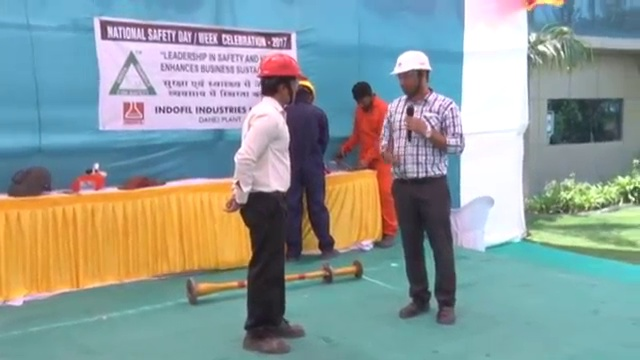helmet: (255, 54, 311, 80), (388, 49, 434, 75), (297, 76, 318, 98)
helmet_off: (351, 81, 377, 112)
helmet_on: (255, 53, 312, 106), (386, 46, 435, 98), (294, 75, 320, 108)
person: (228, 54, 309, 353), (381, 48, 463, 324), (338, 81, 403, 249), (288, 77, 343, 261)
